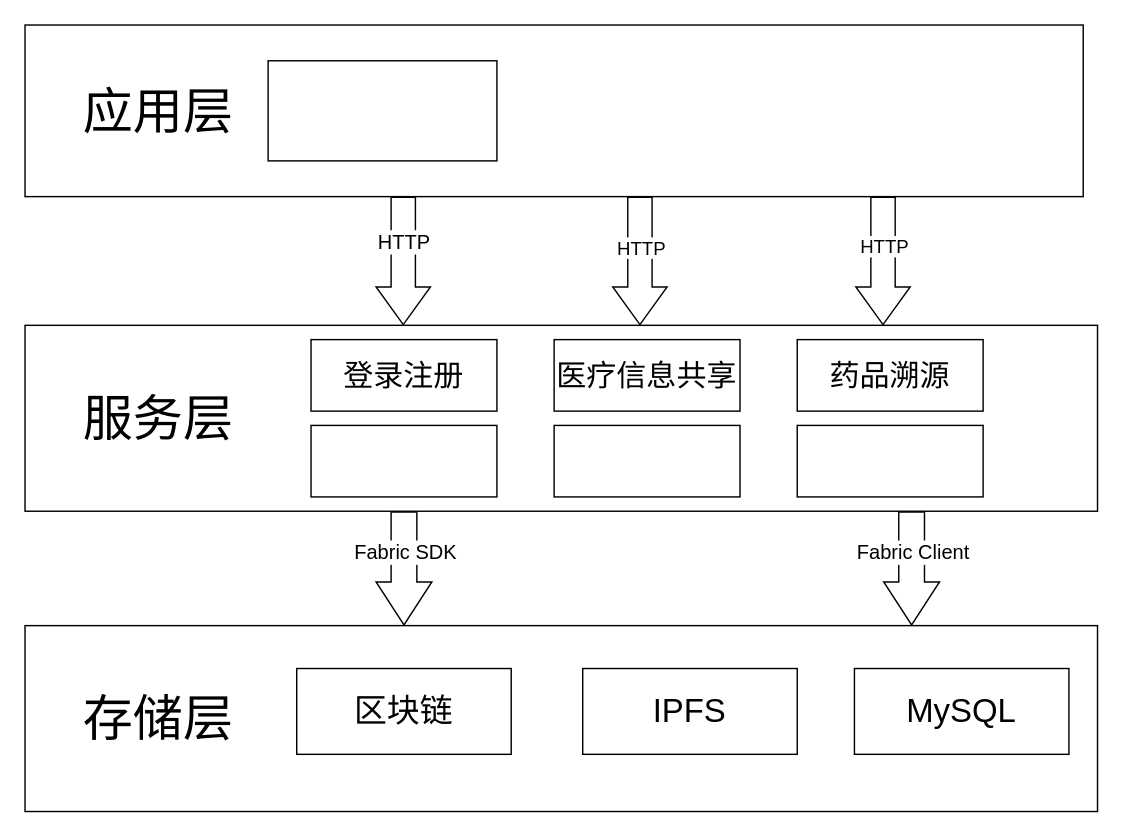
This 1123x837 diagram has some shape labels left out. The shapes that lost their labels are listed below. From the top down, each one's centre as x and y in pixels, then its label:
At point 382,110: "Vue-cli".
At point 403,460: "属性鉴权中心".
At point 646,460: "区块链交互".
At point 889,460: "IPFS交互".
